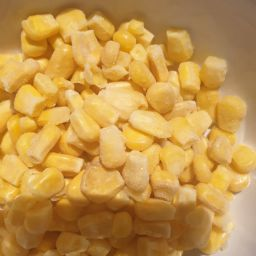Corn Kernel: (70, 7, 172, 256), (132, 14, 234, 256), (161, 24, 256, 256), (4, 8, 88, 256)
